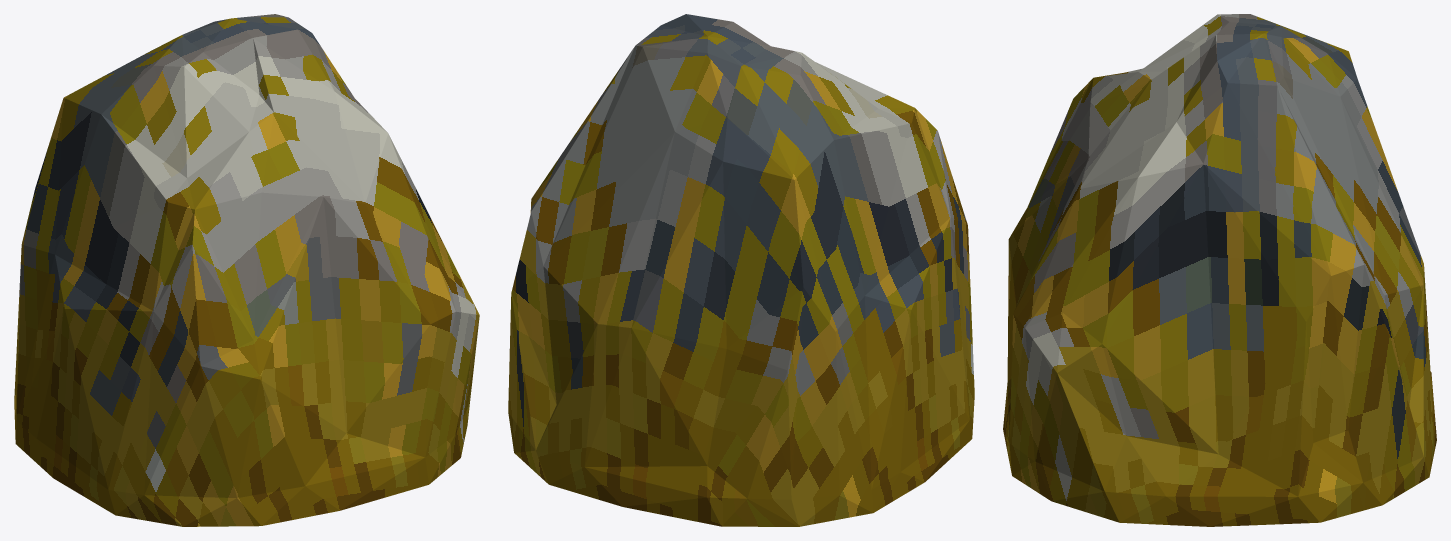
File: medium_rock_dirt.obj
The picture shows the model from 3 angles, left to right: view 1: azimuth 30°, elevation 25°; view 2: azimuth 150°, elevation 25°; view 3: azimuth 270°, elevation 25°; orthographic projection. The views are drawn at different scales.
Parts seen in each view (by area): view 1: Cube; view 2: Cube; view 3: Cube.
Boxes of the visible parts, x1,y1,x2,y2 form: Cube: (14,14,479,526); Cube: (508,14,974,526); Cube: (1003,14,1436,526).
Bounding box in the file's own units: 0.962 × 1 × 0.9602.
1 material, 1 textured.
